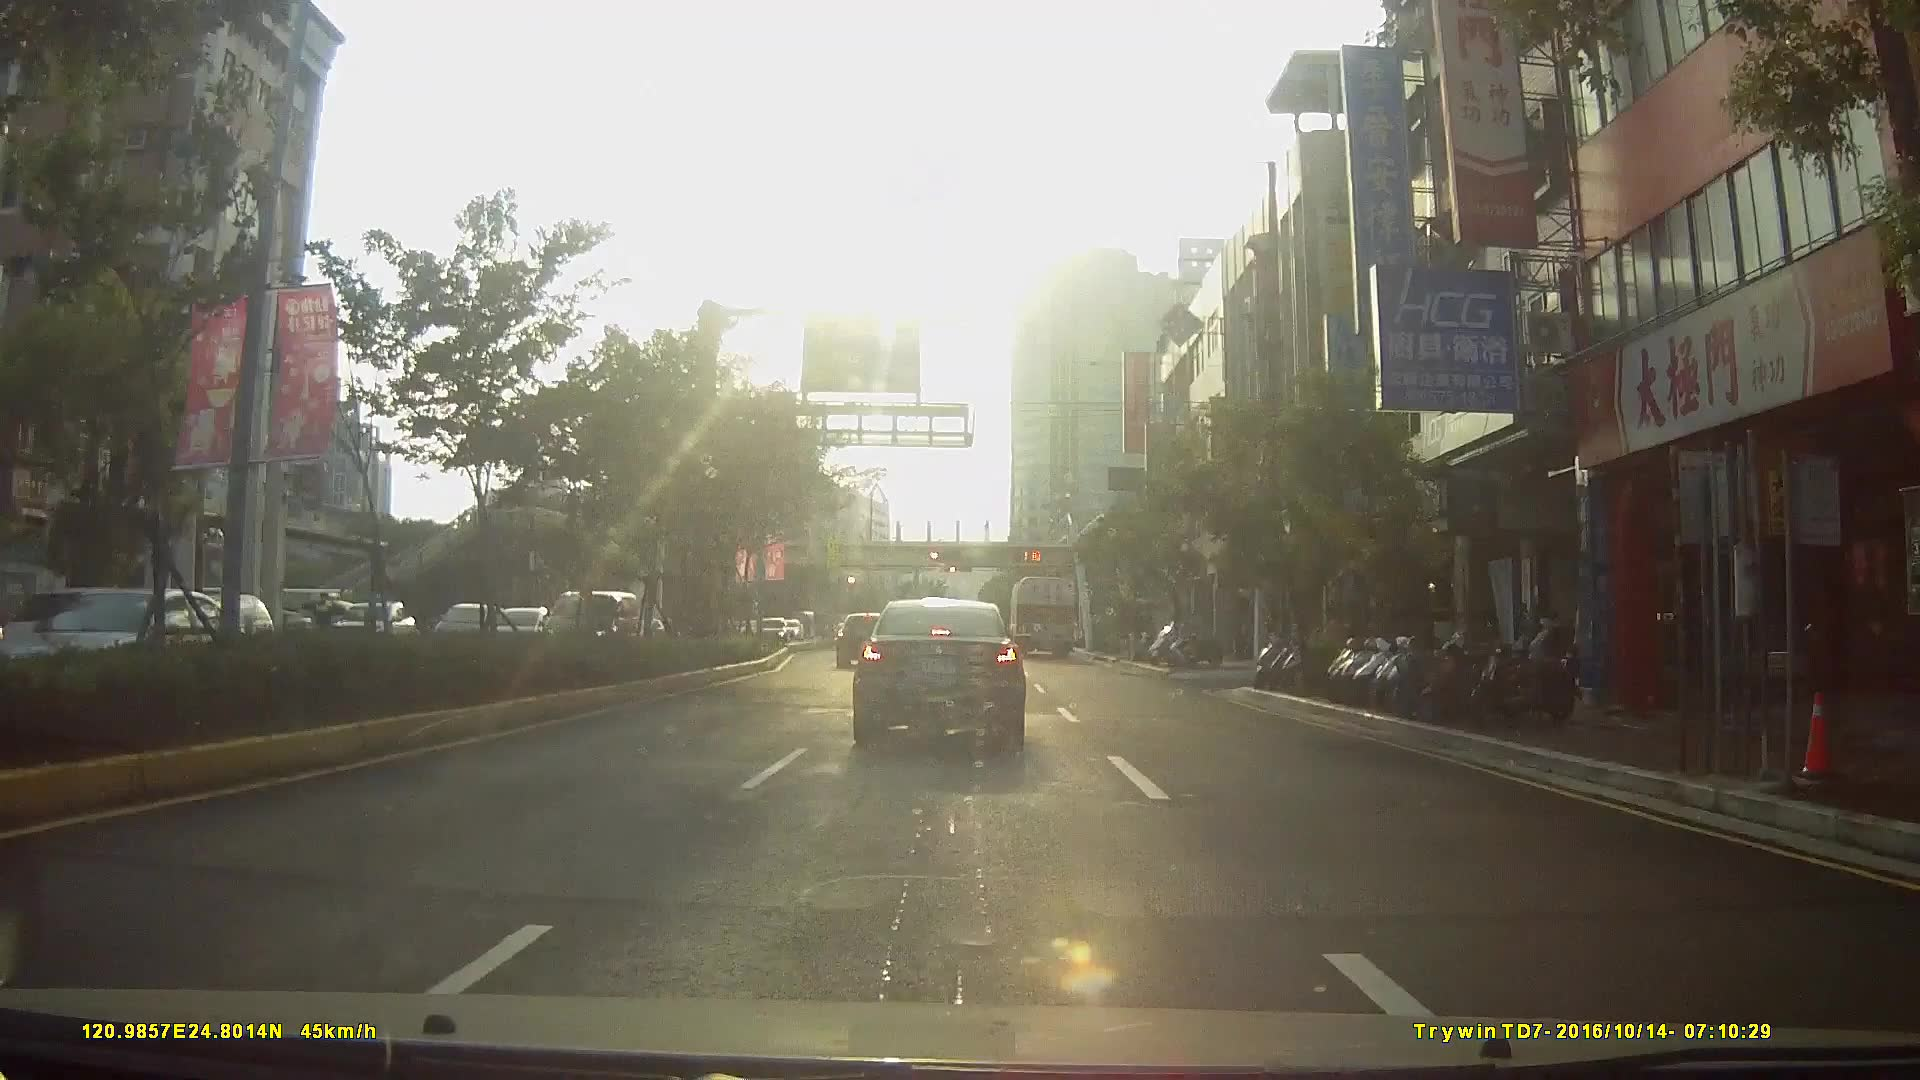vehicle: (7, 584, 272, 698), (851, 588, 1026, 744), (17, 583, 142, 661), (541, 589, 647, 655), (160, 593, 266, 659), (1006, 574, 1080, 659), (832, 609, 890, 665), (752, 613, 787, 642)
